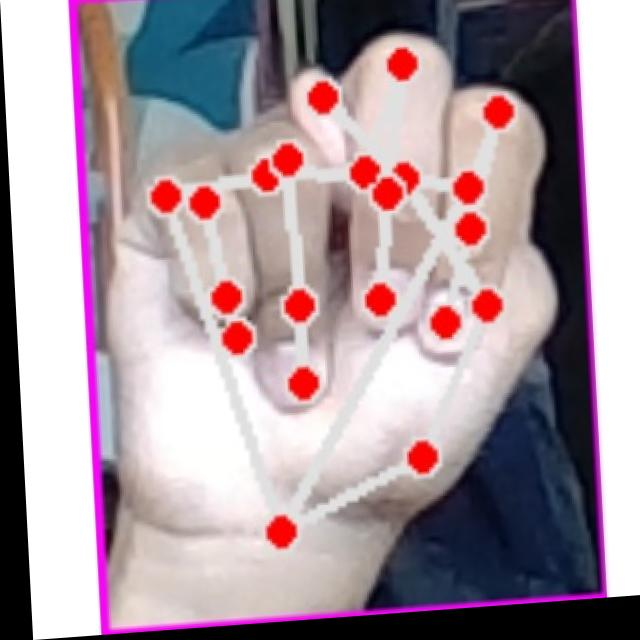N: (87, 30, 579, 577)
